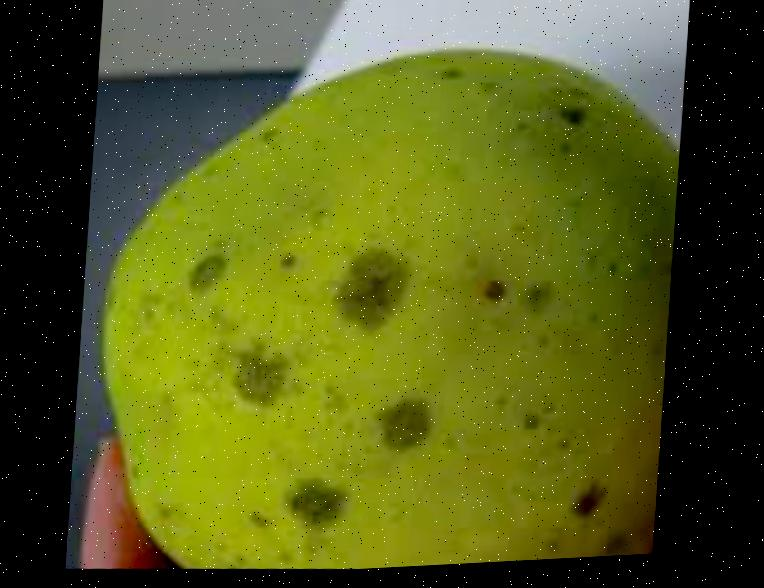BLOTCH: (64, 0, 690, 584)
